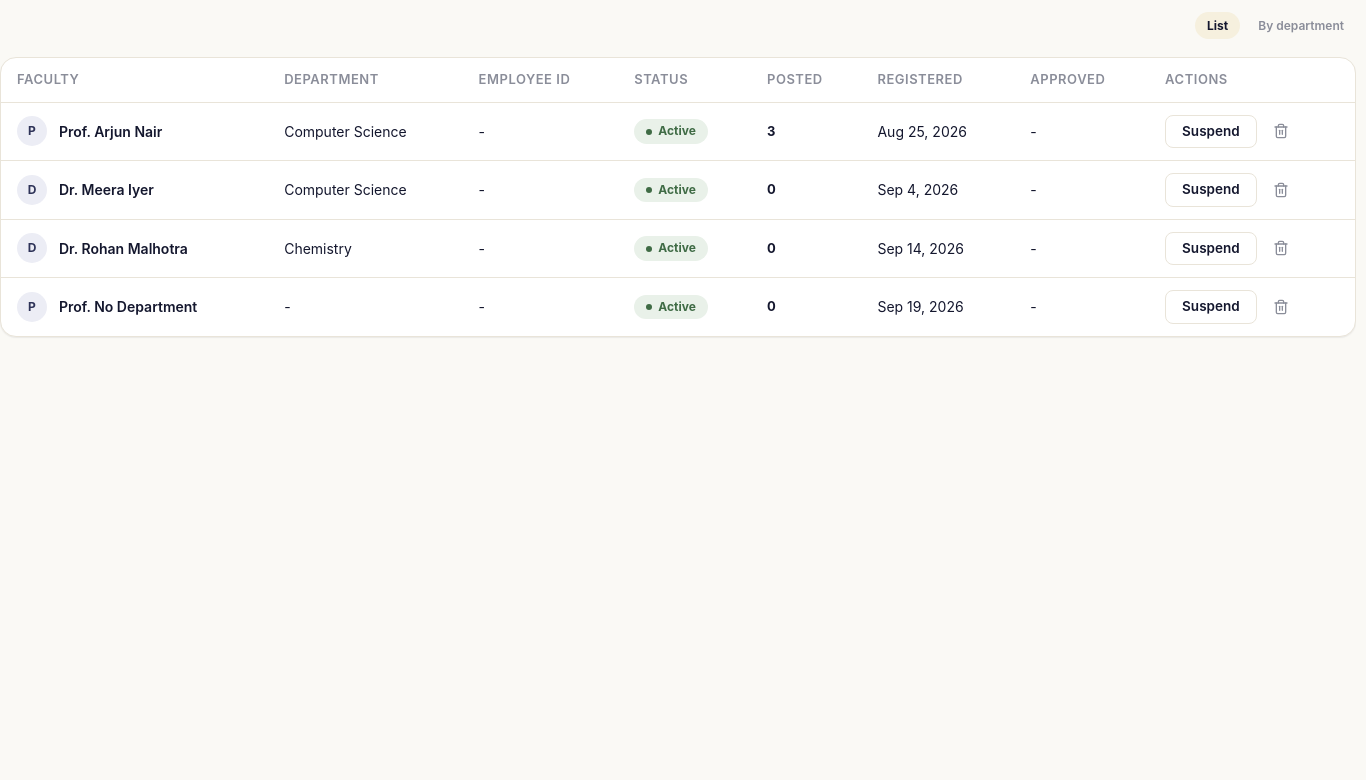
FacultyTable — grouping › groups by department, hides the Department column, and buckets a blank department separately
Click the button "By department" at (1301, 26), box [1246,12,1356,39]
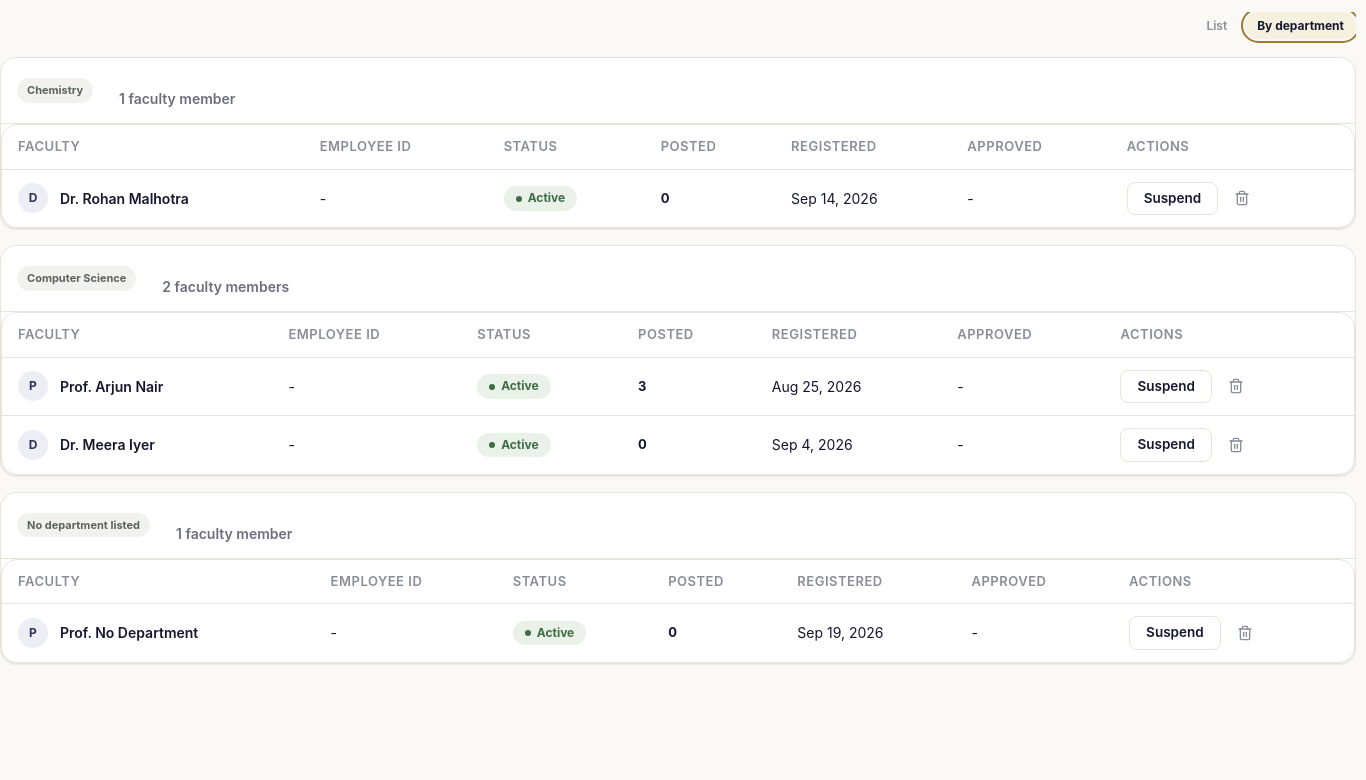
Expected: the text "Computer Science" is shown, [17,266,136,291]
Now the text "No department listed" is shown, box [17,513,150,537]
Now the text "2 faculty members" is shown, box [162,278,289,295]
